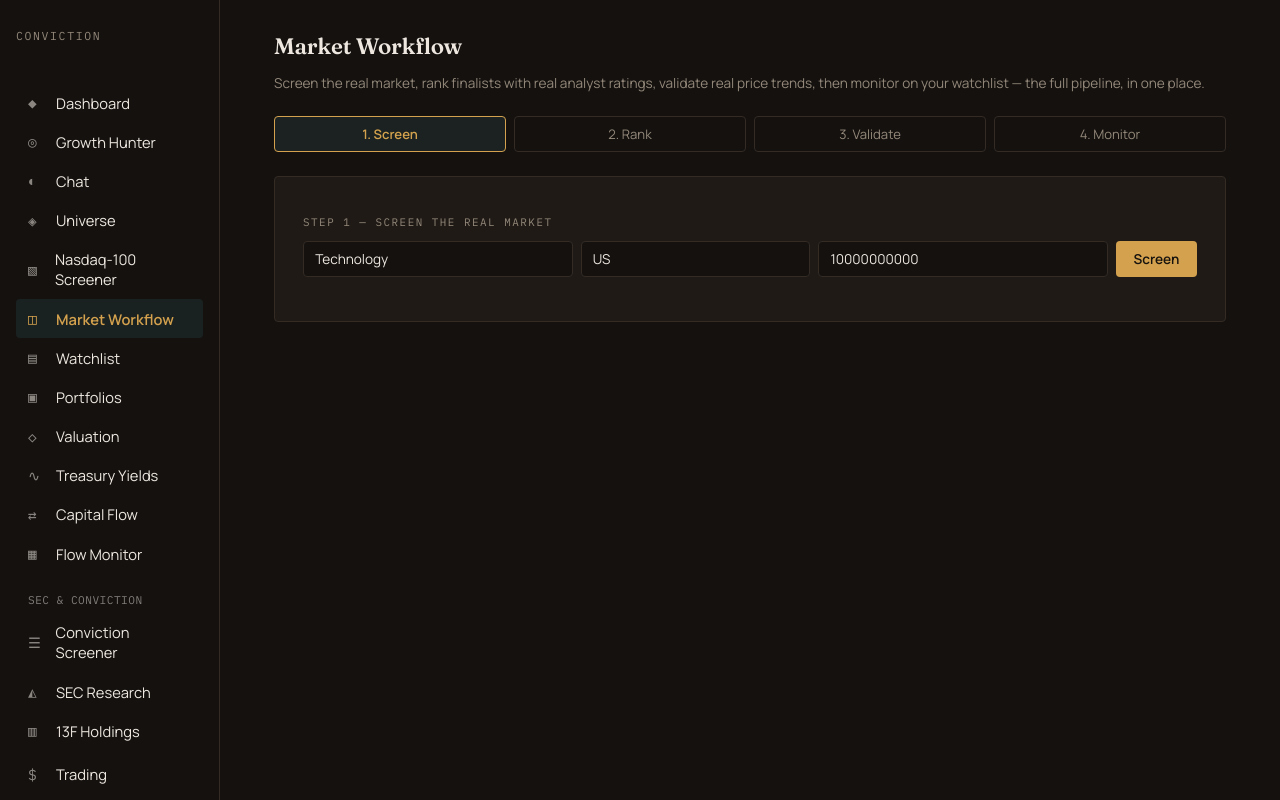
Test: Market Workflow page › Step 1: shows an honest error message when screening fails
Click the button "Screen".
click(1156, 260)  # box 1116,242 -> 1197,278
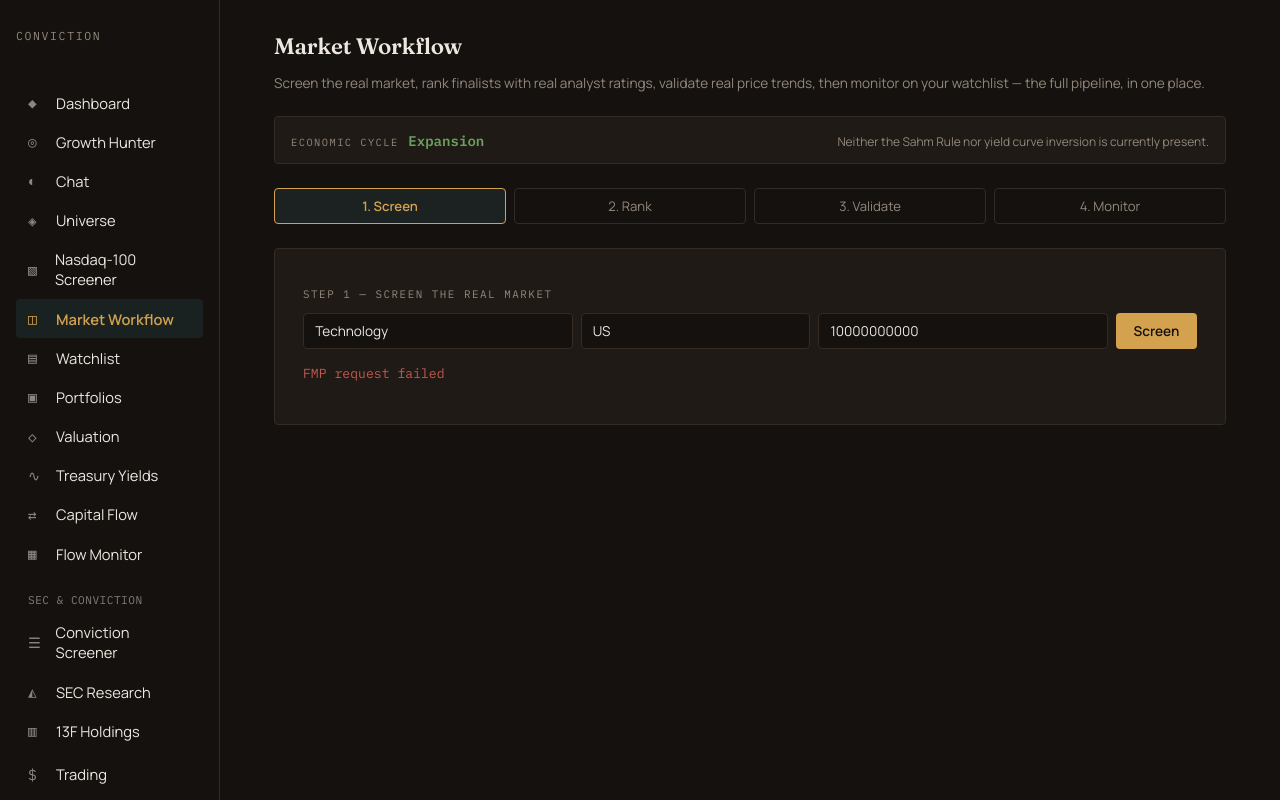
Expected: the text "FMP request failed" is shown, 303,366 -> 445,382
